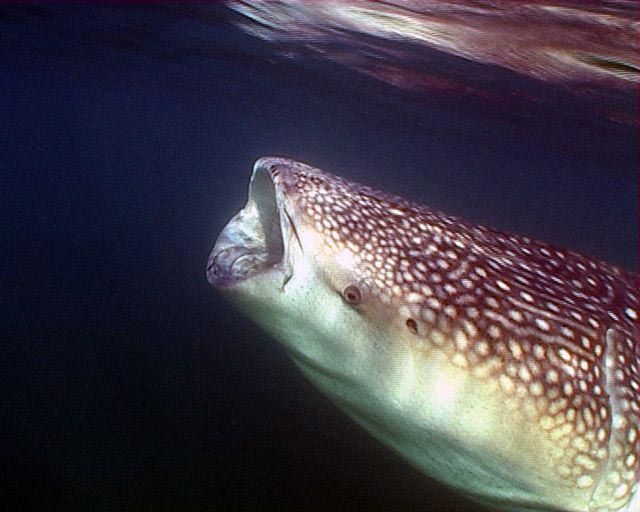Rhincodon_typusw: (190, 137, 640, 500)
